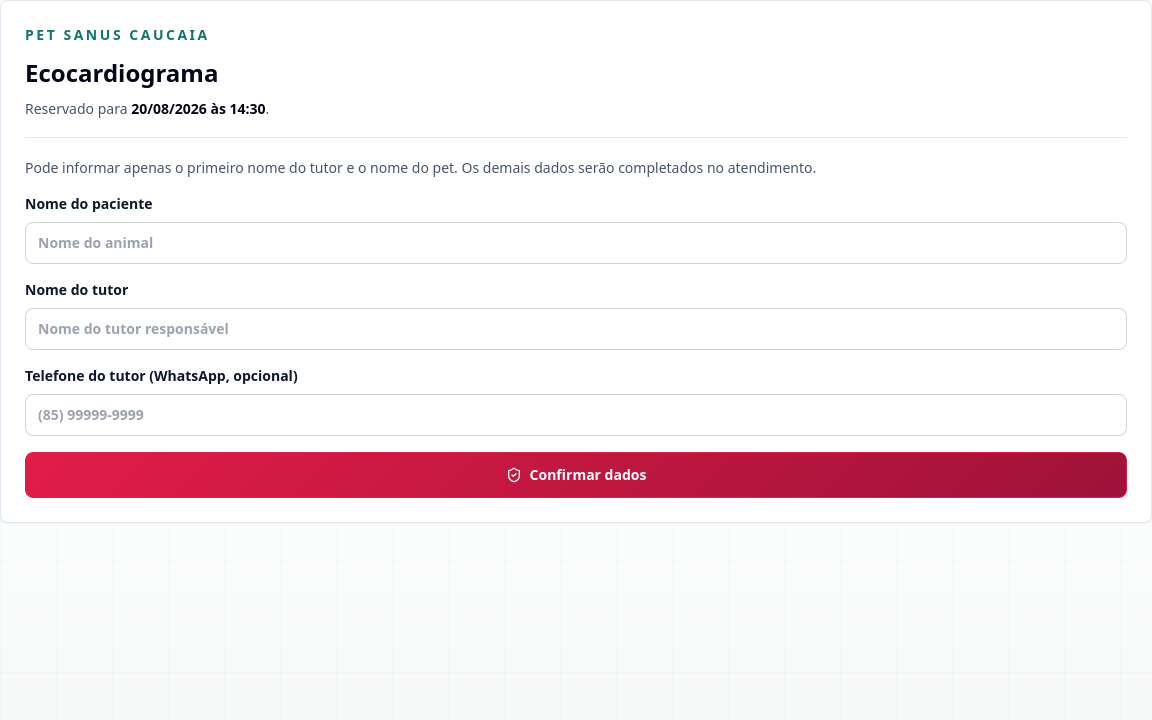
Test: AgendaFormalizacaoWorkspace › carrega o contexto do agendamento e envia os dados preenchidos
Expected: the text "Pet Sanus Caucaia" is shown, [25, 25, 210, 44]
Expected: the heading "Ecocardiograma" is shown, [25, 56, 218, 89]
Type "Rex" into the field with placeholder "Nome do animal" at point(576, 243), box [25, 222, 1127, 264]
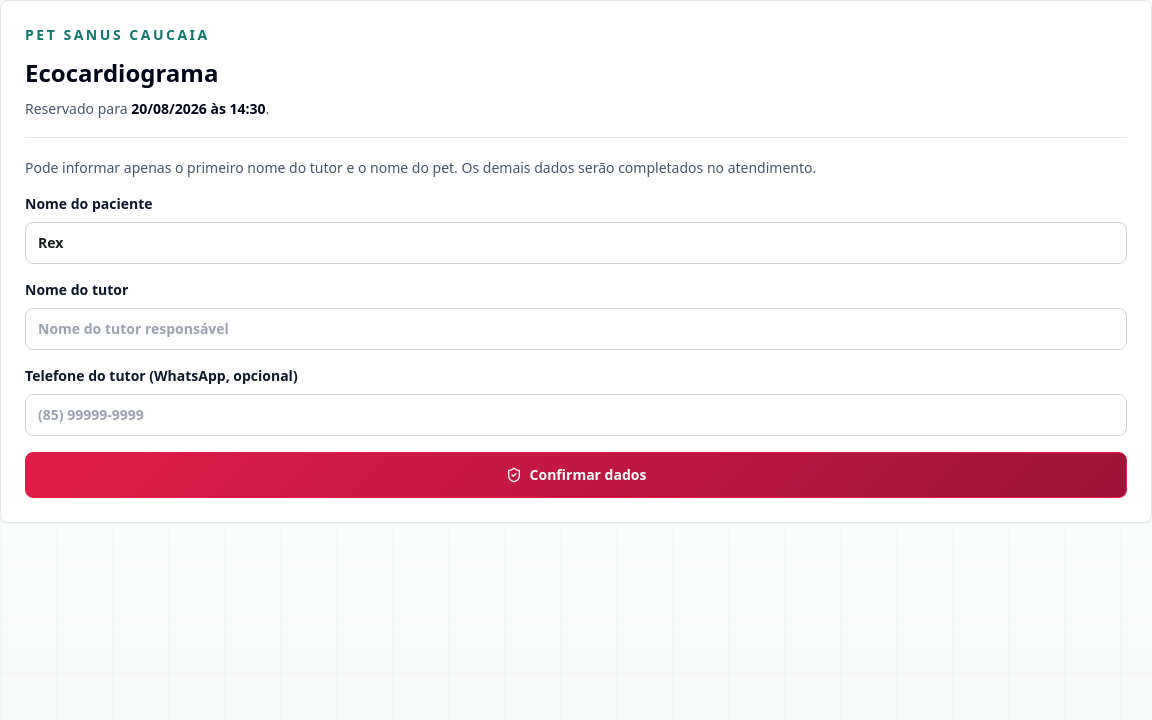
Type "João Silva" into the field with placeholder "Nome do tutor responsável" at point(576, 329), box [25, 308, 1127, 350]
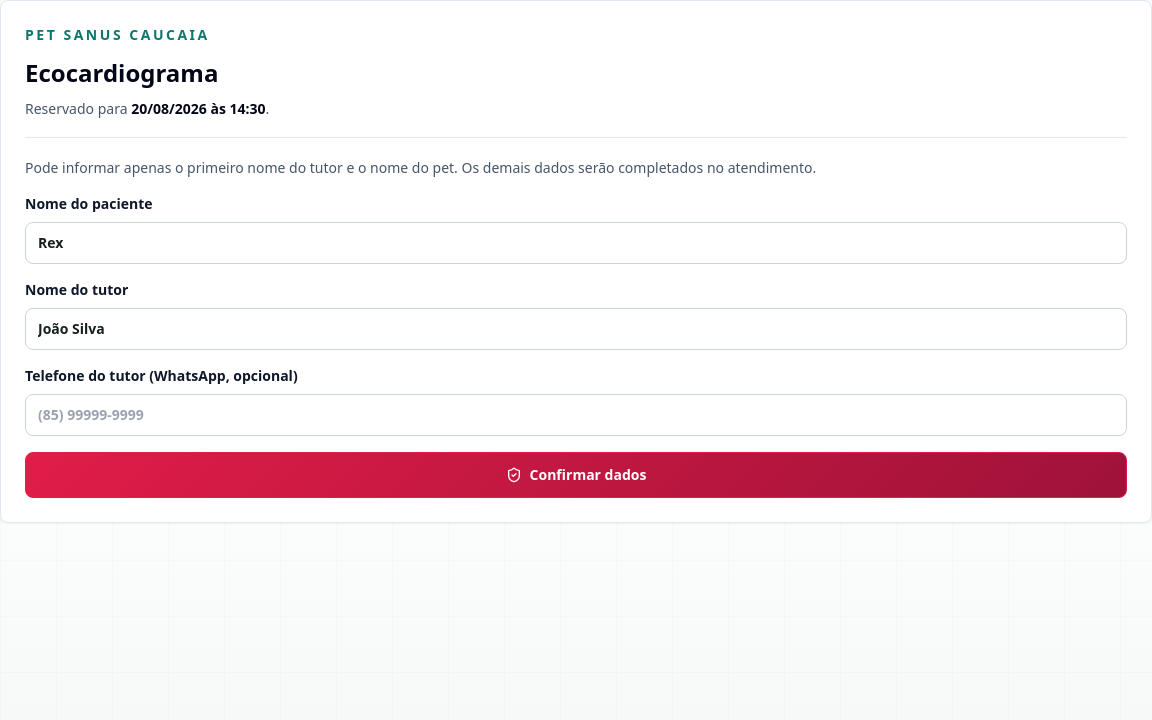
Type "(85) 98888-7777" into the field with placeholder "(85) 99999-9999" at point(576, 415), box [25, 394, 1127, 436]
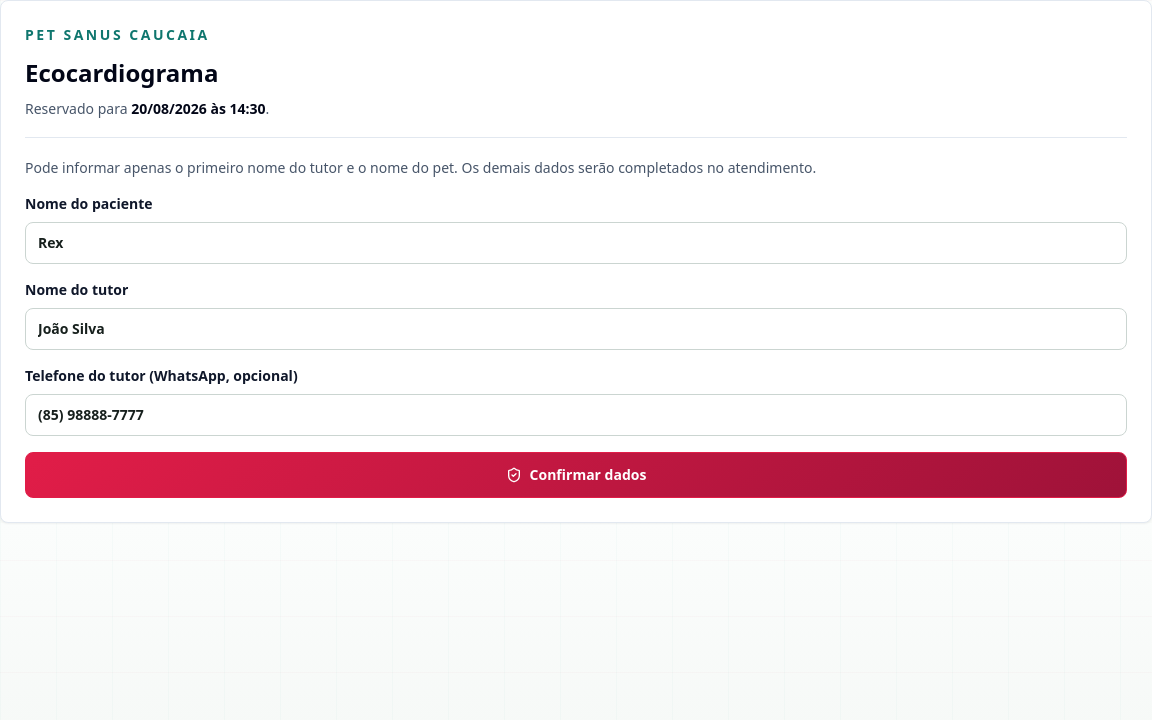
Click the button "Confirmar dados" at point(576, 475), box [25, 452, 1127, 498]
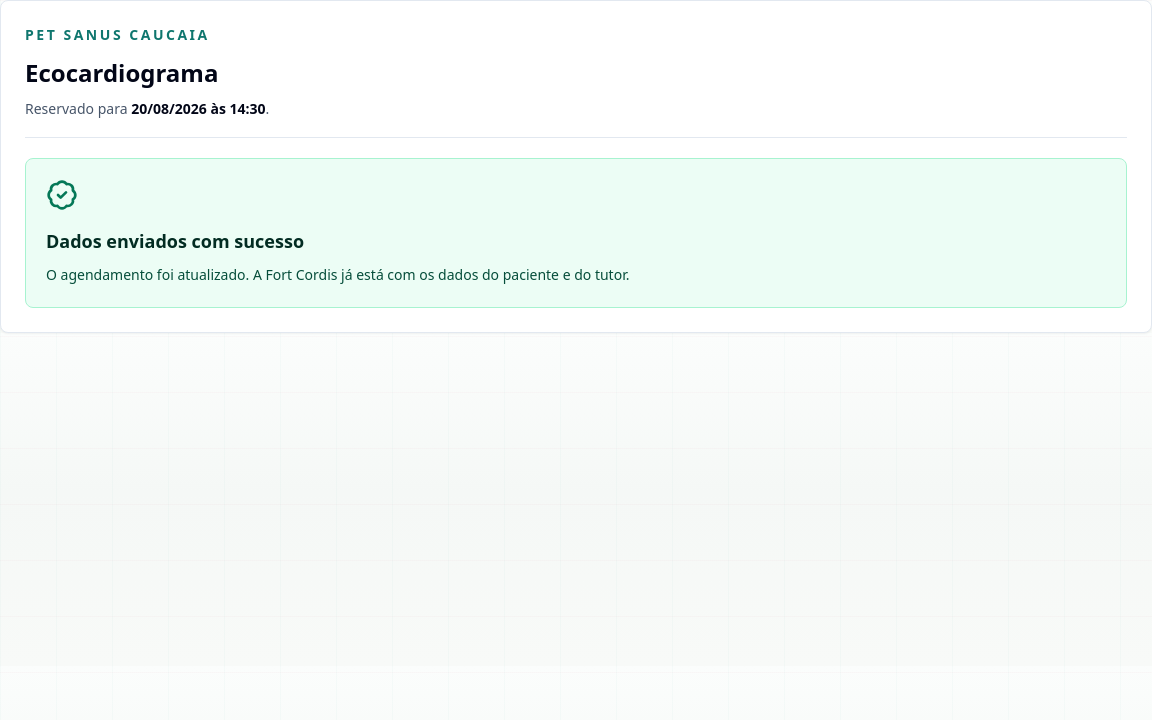
Result: the heading "Dados enviados com sucesso" is shown at [46, 229, 304, 253]
